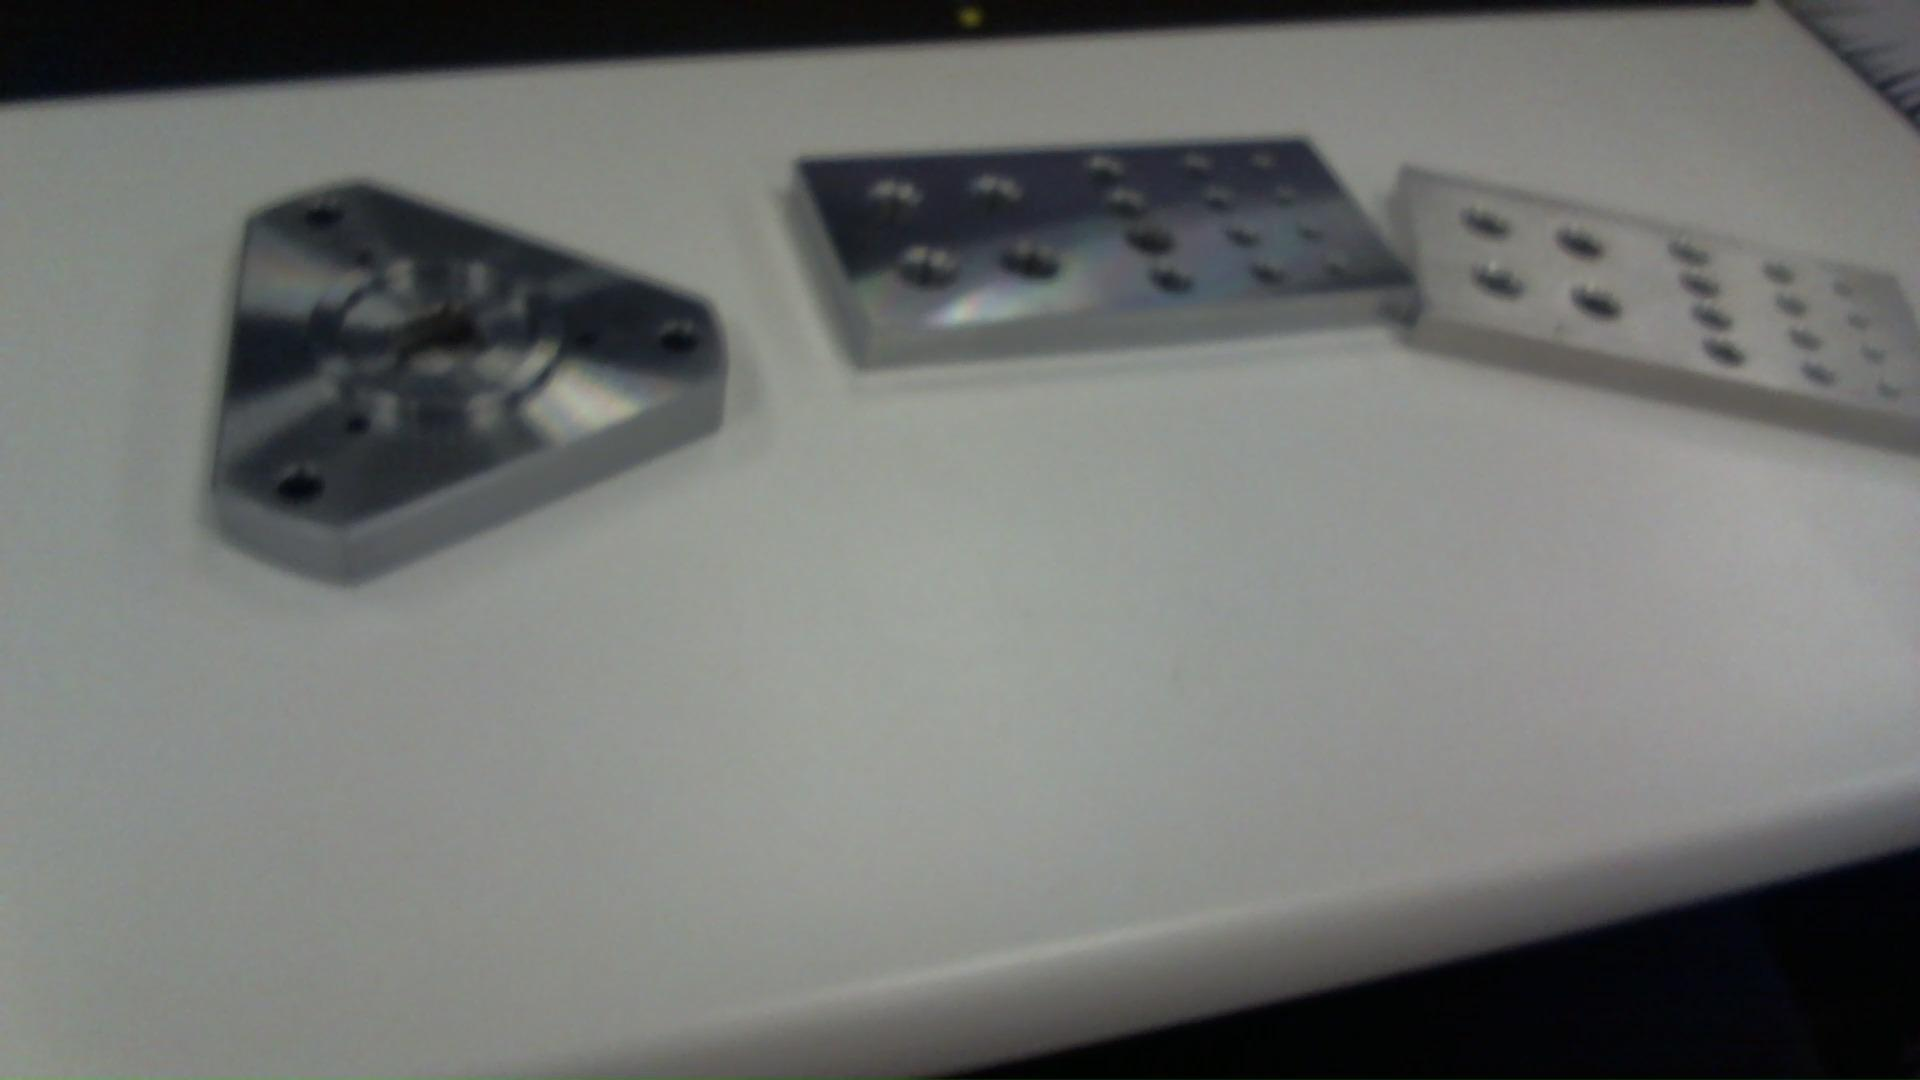hole: (993, 232, 1060, 287), (269, 468, 334, 522), (898, 241, 957, 298), (1472, 258, 1536, 307), (1573, 277, 1633, 330), (866, 173, 924, 224), (1552, 218, 1611, 268), (658, 316, 705, 367), (969, 171, 1029, 211), (1116, 222, 1183, 256), (1468, 200, 1520, 243), (1139, 264, 1196, 301), (1697, 330, 1746, 372), (301, 195, 348, 235), (1673, 265, 1724, 301), (1079, 153, 1127, 189), (1196, 182, 1237, 222), (1793, 353, 1844, 385), (1691, 301, 1742, 331), (1785, 322, 1832, 353), (1105, 189, 1153, 218), (1664, 236, 1714, 262), (1759, 257, 1799, 286), (1251, 258, 1288, 286), (1176, 152, 1213, 179), (1774, 291, 1813, 316), (1251, 146, 1280, 175), (1217, 228, 1250, 251)
